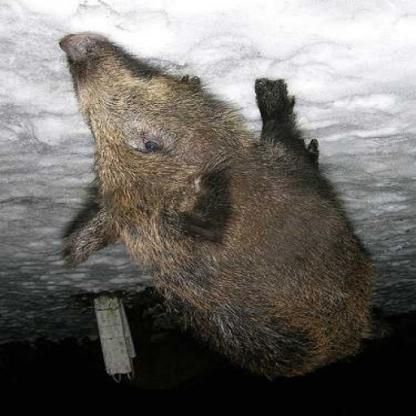boar: (34, 22, 408, 389)
